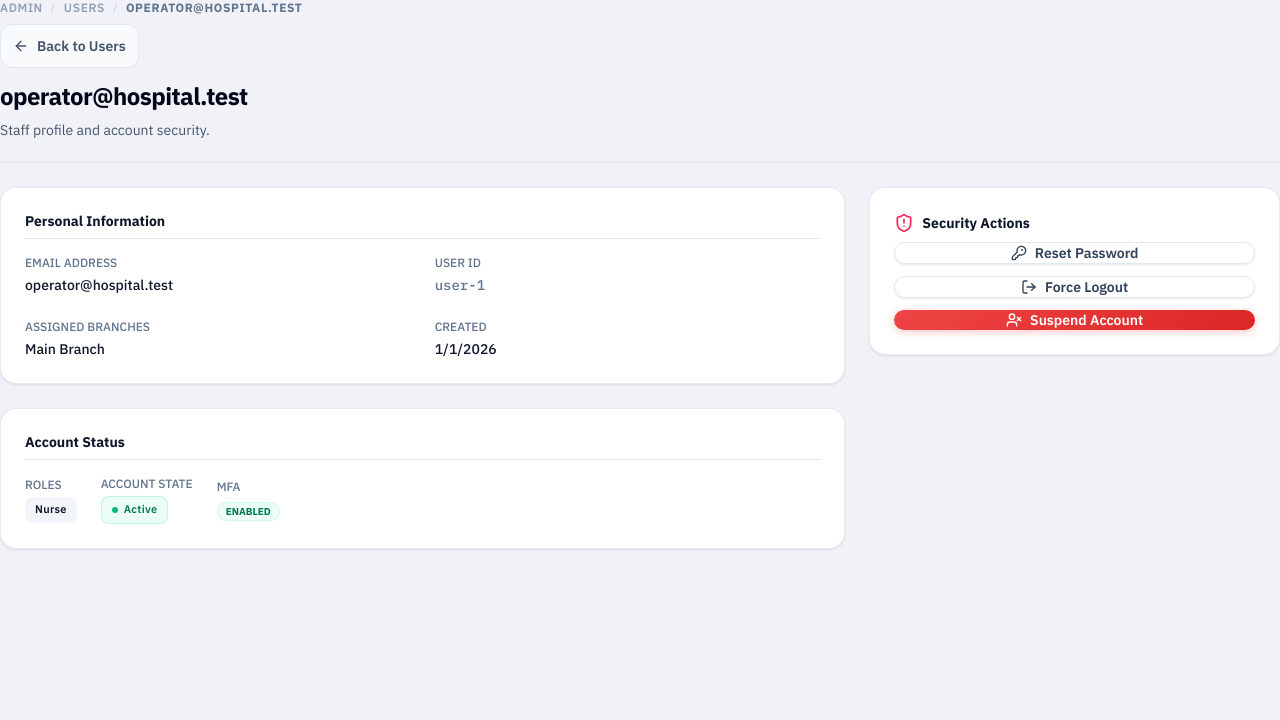
Test: UserDetail admin action truth hardening › force logout uses adminService and shows inline success without alert
Click the button "Force Logout" at (1075, 287), box [894,276,1255,298]
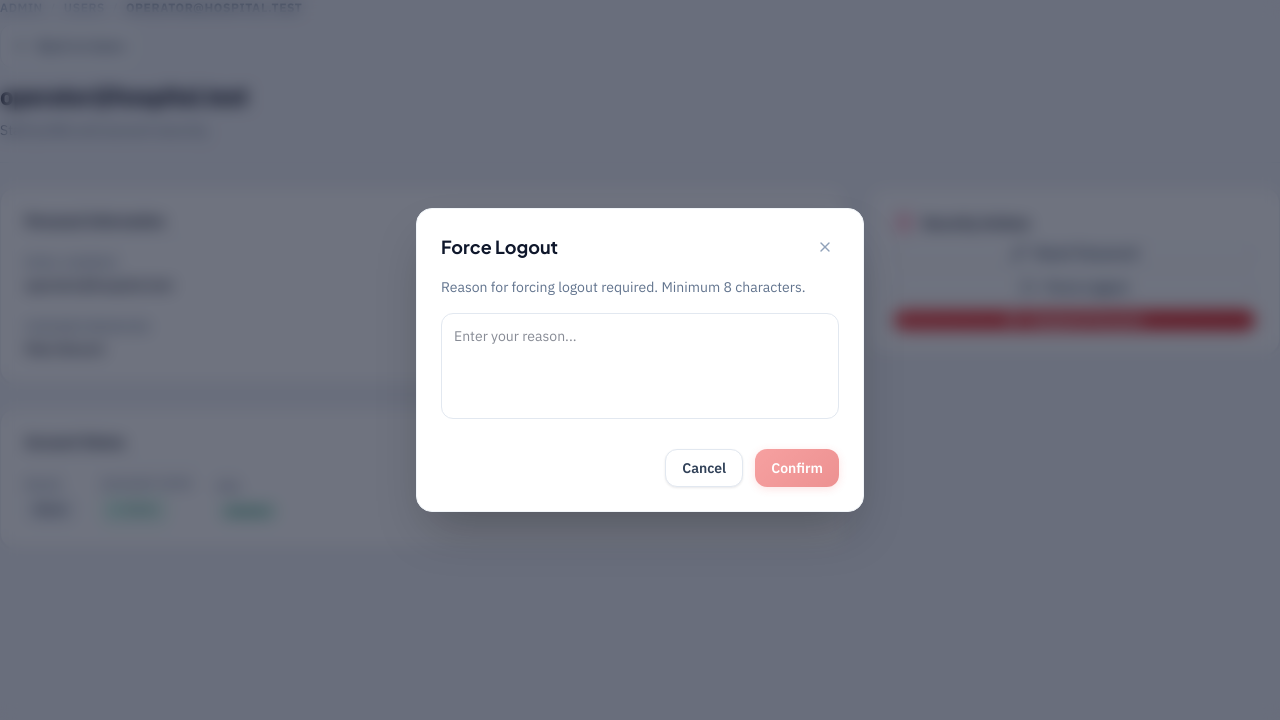
Type "Security incident response" into the text box with placeholder "Enter your reason..." at (640, 366), box [441,313,839,419]
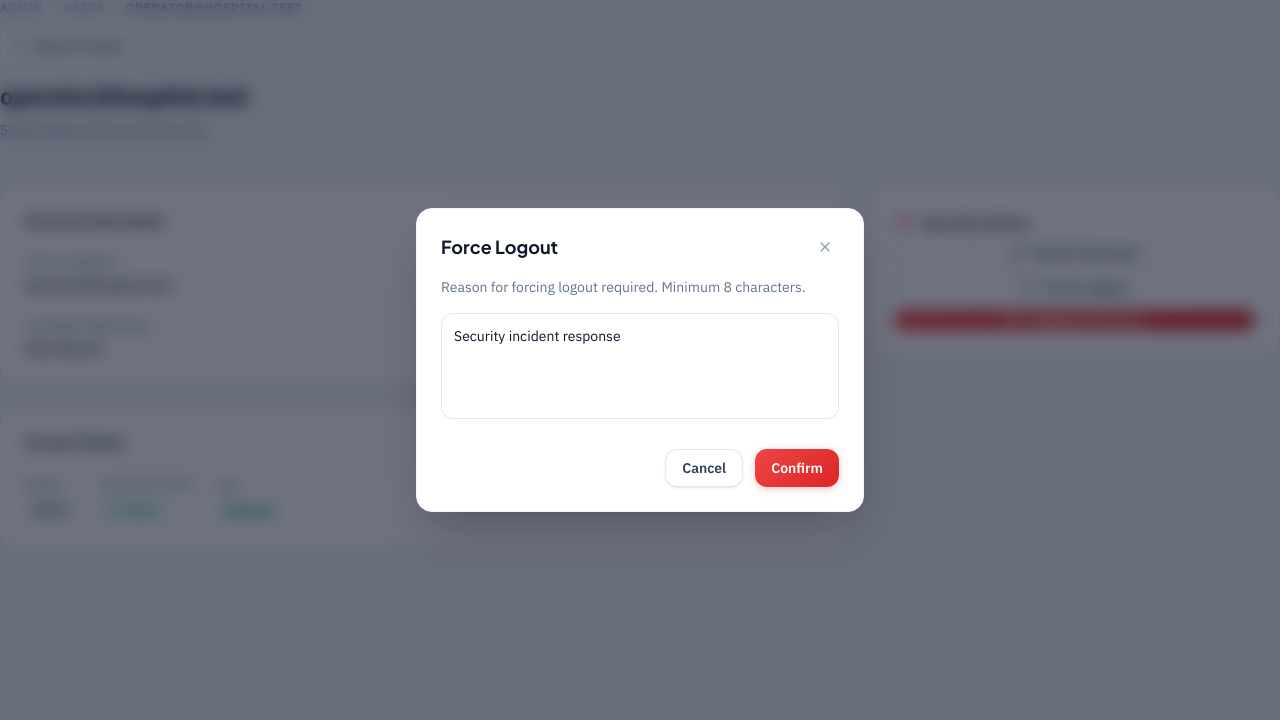
Click the button "Confirm" at (797, 468), box [755,449,839,487]
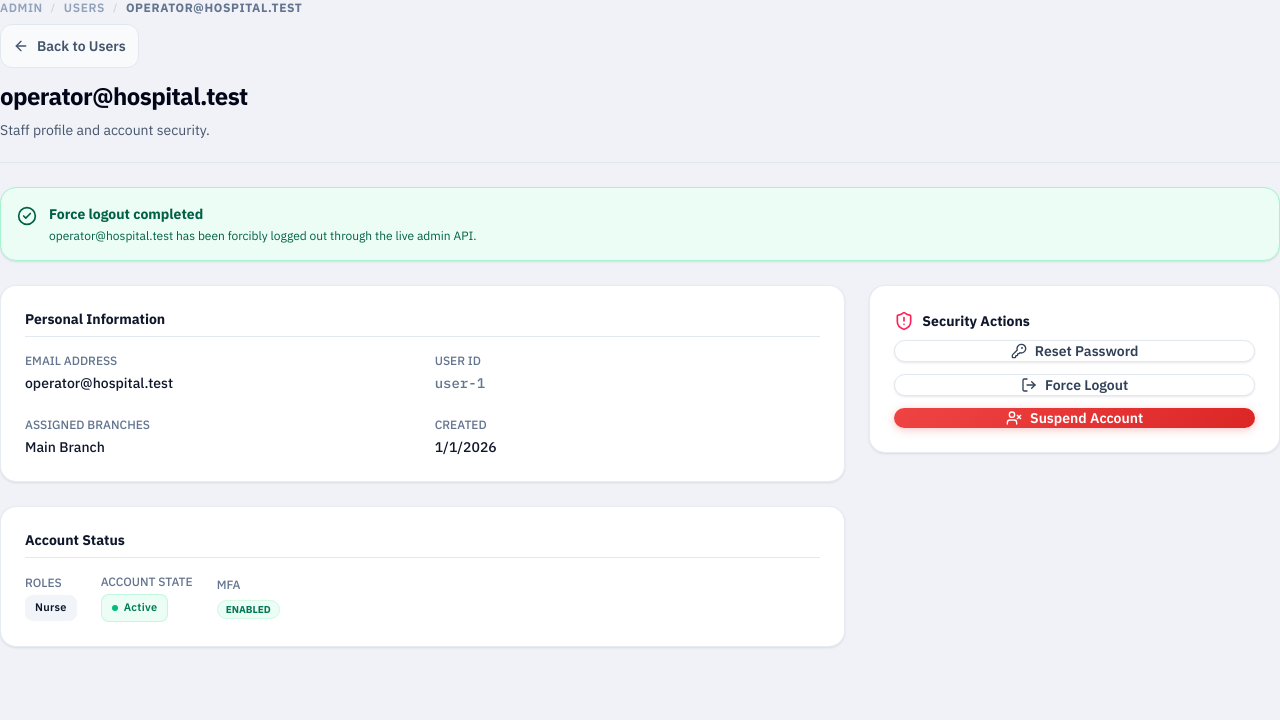
Check: the message shows "forcibly logged out", box [49,228,476,243]
